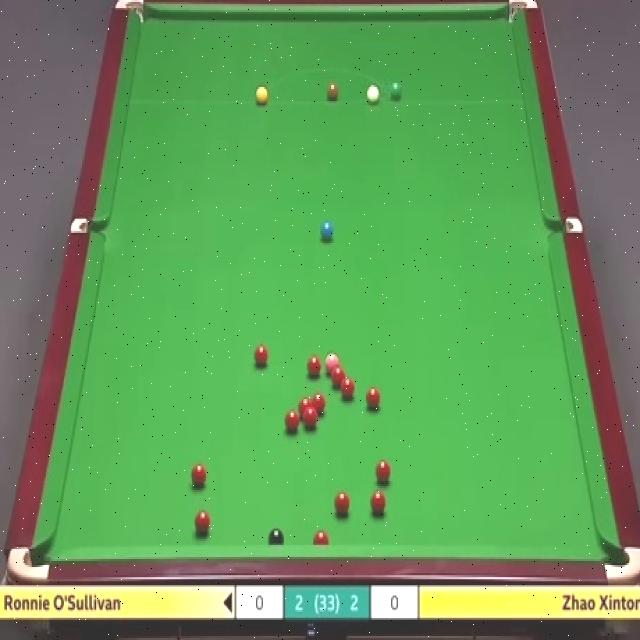black-ball: (268, 524, 284, 548)
blue-ball: (321, 222, 334, 241)
brown-ball: (326, 84, 339, 104)
green-ball: (388, 84, 402, 105)
pink-ball: (324, 350, 340, 373)
red-ball: (369, 488, 387, 516), (374, 458, 392, 485), (190, 462, 208, 487), (334, 489, 351, 515), (194, 508, 210, 534), (252, 342, 268, 368), (340, 378, 356, 403), (306, 353, 322, 378), (284, 409, 300, 432), (303, 404, 318, 428), (366, 386, 381, 410), (330, 366, 346, 386), (313, 392, 327, 414), (312, 530, 328, 546), (299, 397, 312, 414)
white-ball: (365, 81, 380, 106)
yellow-ball: (255, 83, 268, 105)
